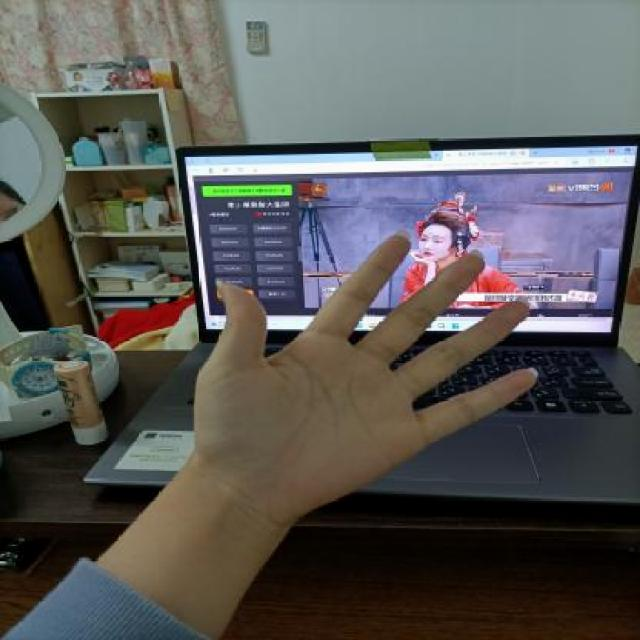no_glove: (168, 230, 554, 518)
